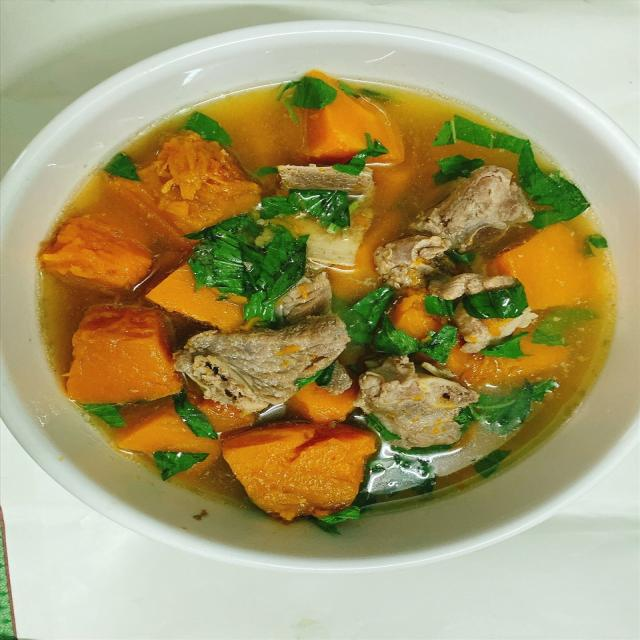canh bi do: (37, 70, 616, 531)
